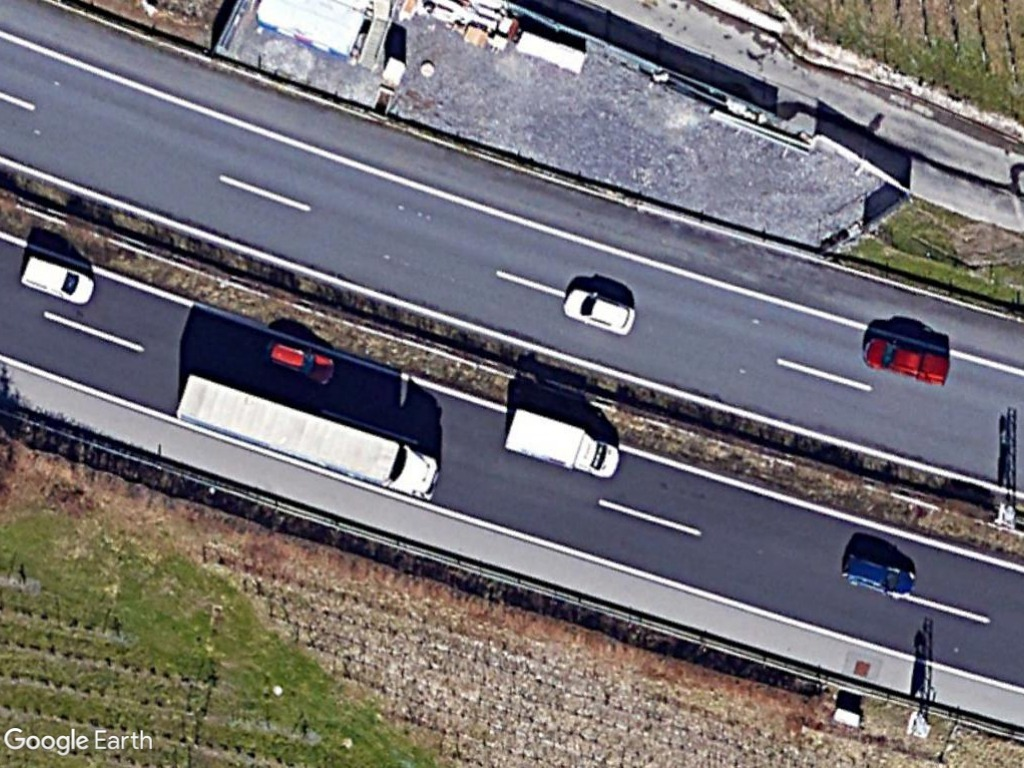car: (856, 330, 957, 391), (558, 284, 641, 342), (835, 548, 920, 603), (257, 336, 340, 391)
longvehicle: (173, 371, 445, 505)
truck: (502, 402, 625, 485)
van: (19, 251, 97, 310)
